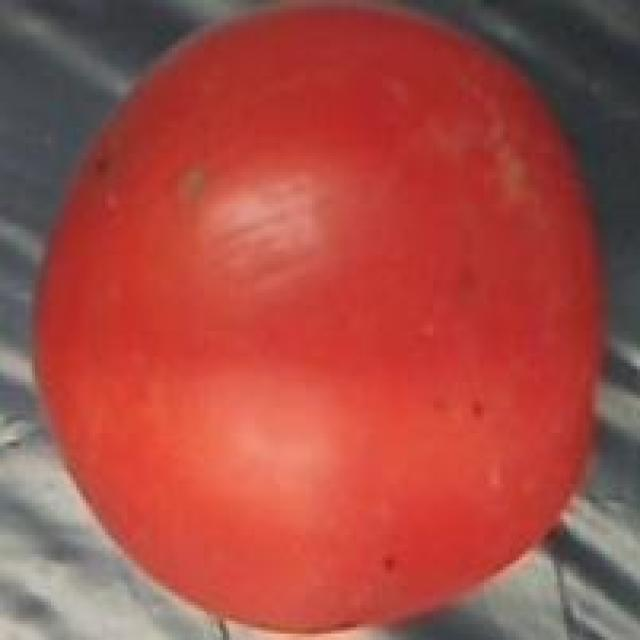overripe tomato: (19, 3, 621, 640)
